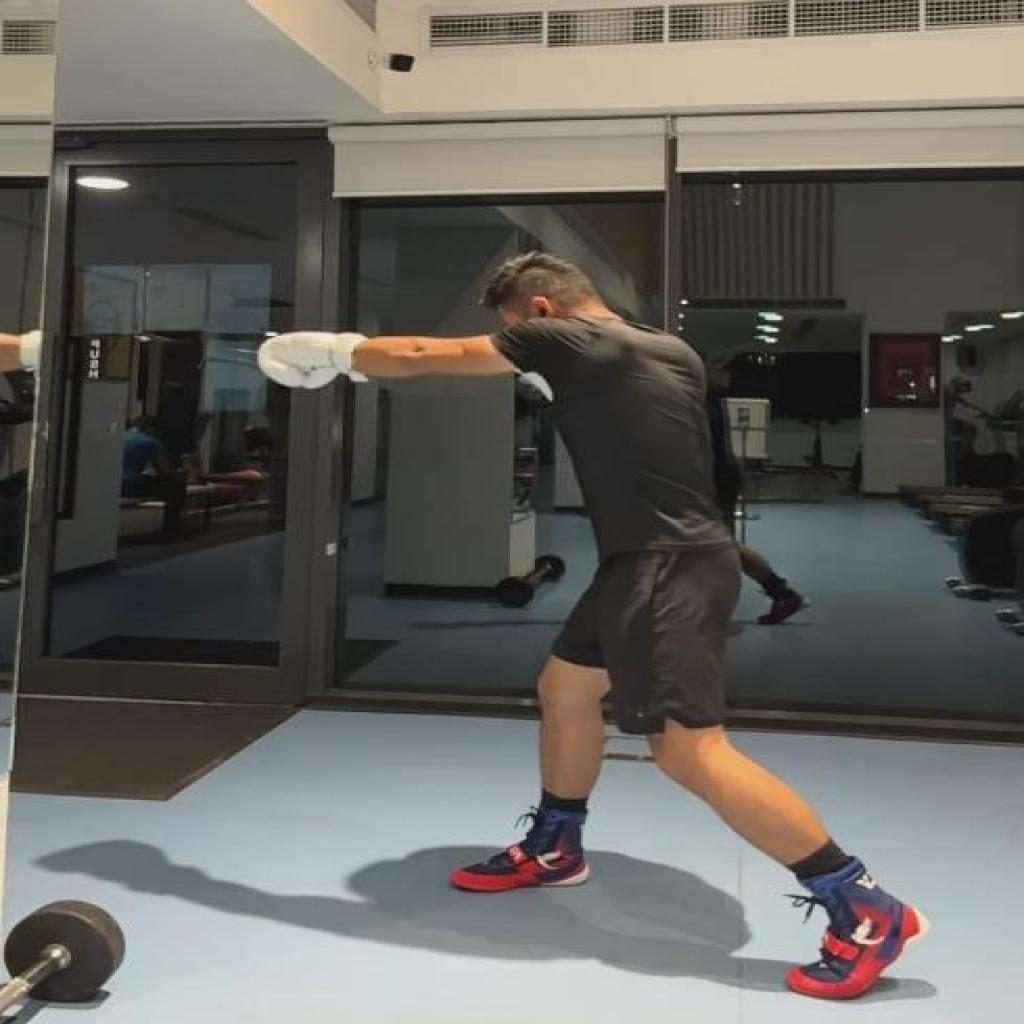cross: (245, 248, 934, 1005)
